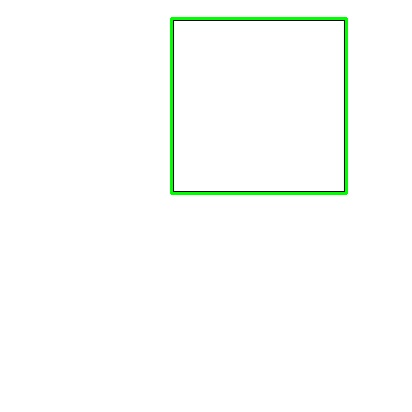line_segment: (170, 17, 348, 195)
